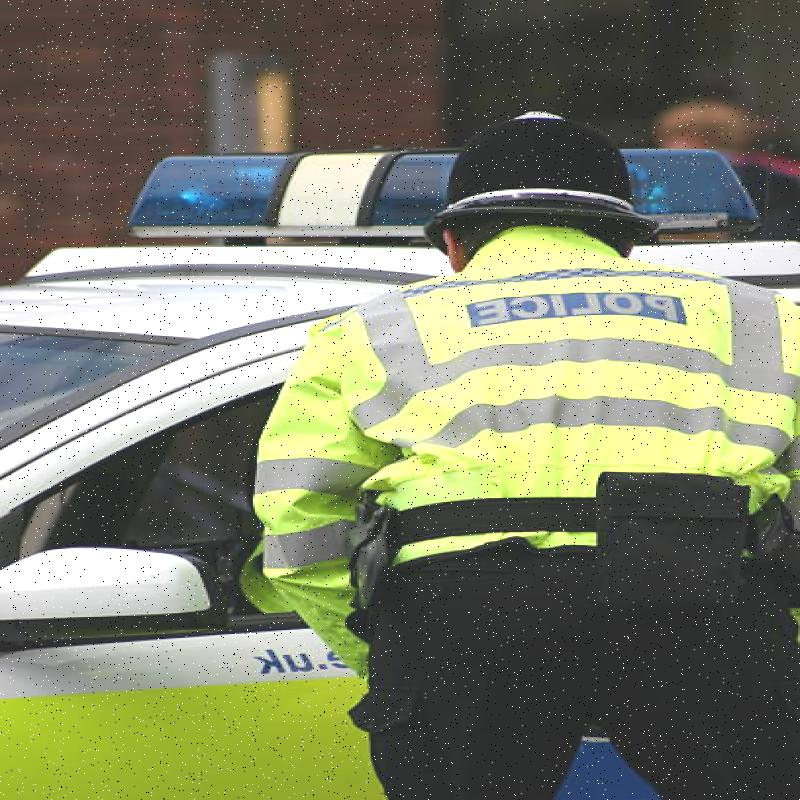AmbulanceSiren: (127, 103, 738, 266)
